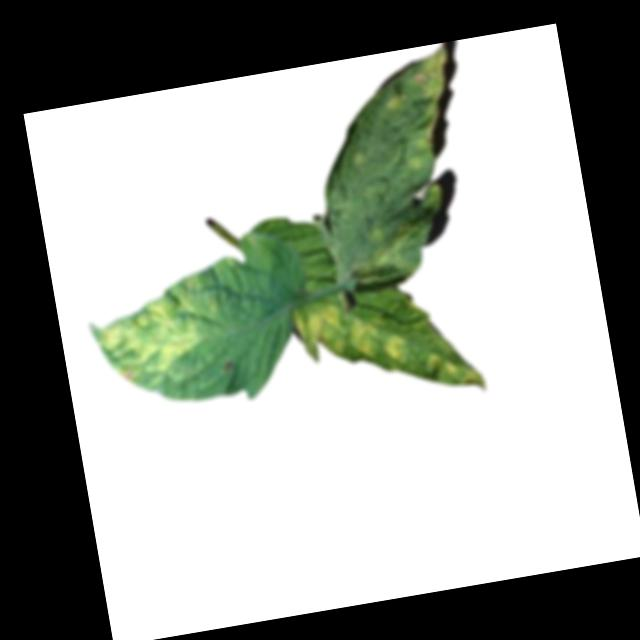Leaf_Mold: (80, 267, 227, 399), (290, 285, 410, 383), (377, 41, 467, 170), (421, 343, 487, 399)
